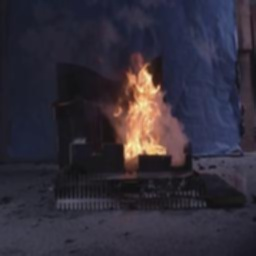fire: (113, 50, 180, 162)
